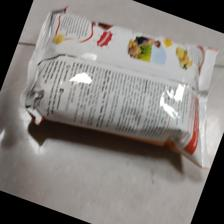Lays: (21, 3, 223, 172)
